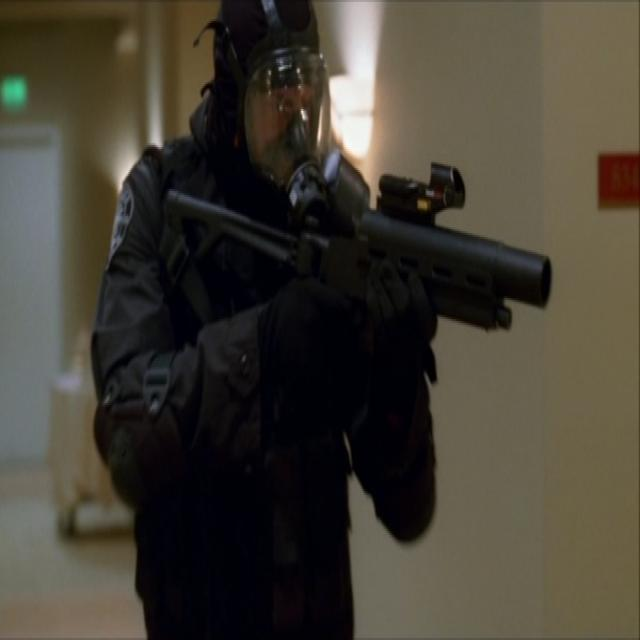rifle: (165, 136, 559, 378)
